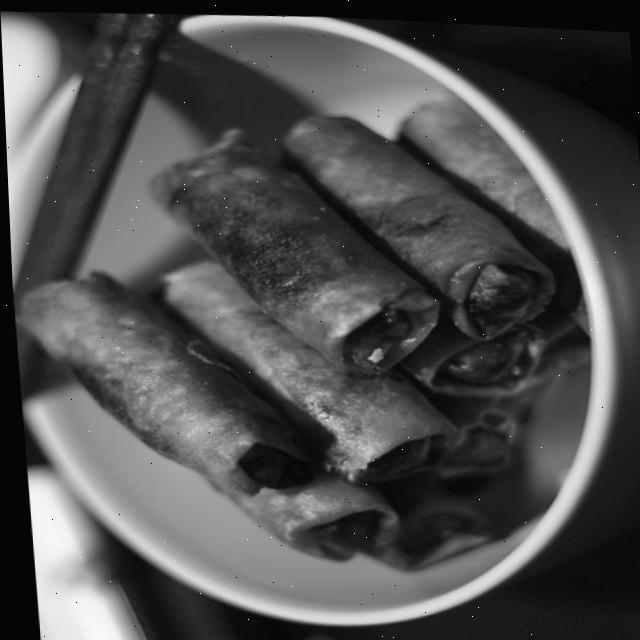炸货点心: (5, 78, 592, 590)
